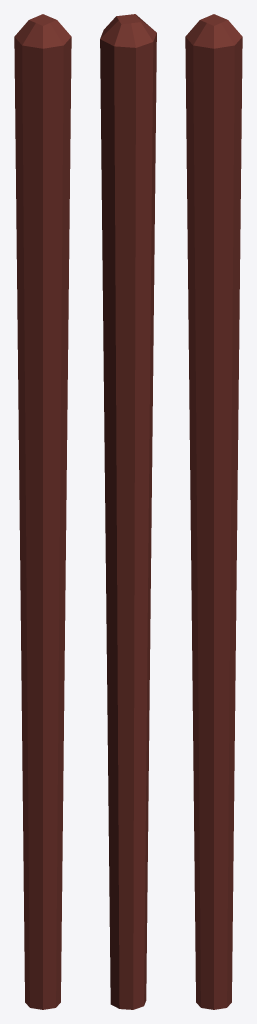
The model's file is PosteDecoracion.fbx.
3 views of the same model, side by side, from view 1: azimuth 90°, elevation 25°; view 2: azimuth 150°, elevation 25°; view 3: azimuth 270°, elevation 25° (orthographic).
Visible parts, largest first — view 1: Cube.001; view 2: Cube.001; view 3: Cube.001.
Part boxes in pixels (box(x1,y1,x2,y2)): Cube.001: box(14, 14, 71, 1009); Cube.001: box(100, 14, 156, 1009); Cube.001: box(185, 14, 242, 1009).
Size of the model in its own units: 0.0967 by 0.0967 by 1.83.
